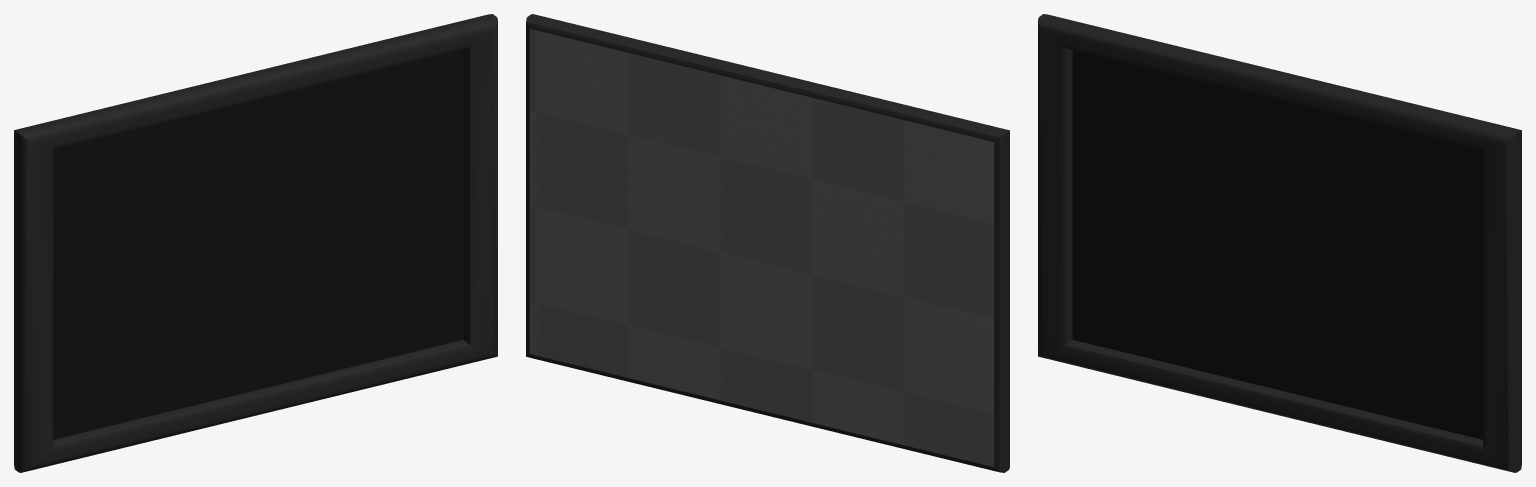
3 renders of one model, left to right at view 1: azimuth 30°, elevation 25°; view 2: azimuth 150°, elevation 25°; view 3: azimuth 330°, elevation 25°, orthographic.
Parts seen in each view (by area): view 1: SM_televisionSet4_110_StaticMeshComponent0_0; view 2: SM_televisionSet4_110_StaticMeshComponent0_0; view 3: SM_televisionSet4_110_StaticMeshComponent0_0.
Boxes of the visible parts, x1,y1,x2,y2 form: SM_televisionSet4_110_StaticMeshComponent0_0: (14, 14, 497, 472); SM_televisionSet4_110_StaticMeshComponent0_0: (526, 14, 1009, 472); SM_televisionSet4_110_StaticMeshComponent0_0: (1038, 14, 1521, 472).
Size of the model in its own units: 3.02 by 2.05 by 0.137.
Materials: 3 (3 with a texture image).
